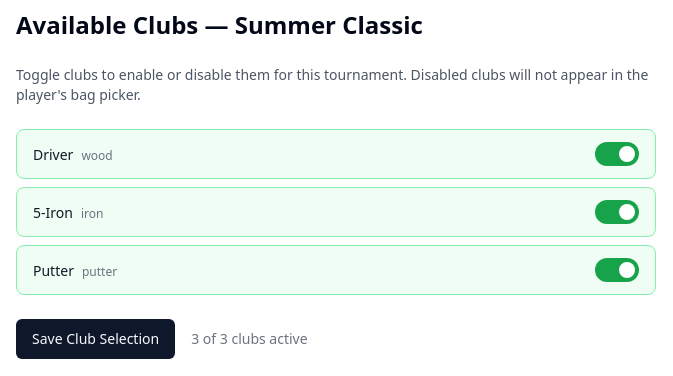
Scenario: ClubPickerForm › updates the active count when a club is toggled off
Expected: the text "3 of 3 clubs active" is shown, [191,329,308,349]
Click the switch named "Toggle Driver" at (617, 154), box [595,142,639,166]
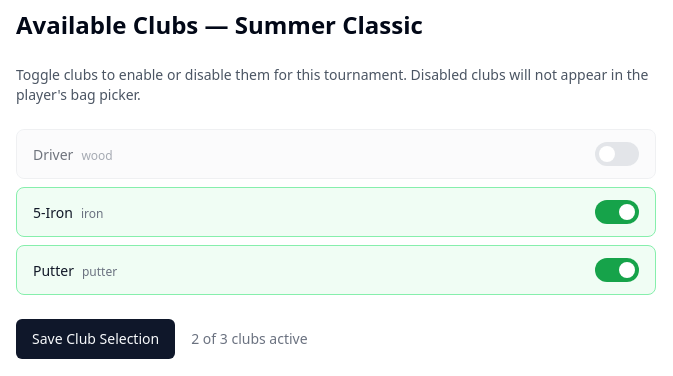
Result: the text "2 of 3 clubs active" is shown at [191,329,308,349]
